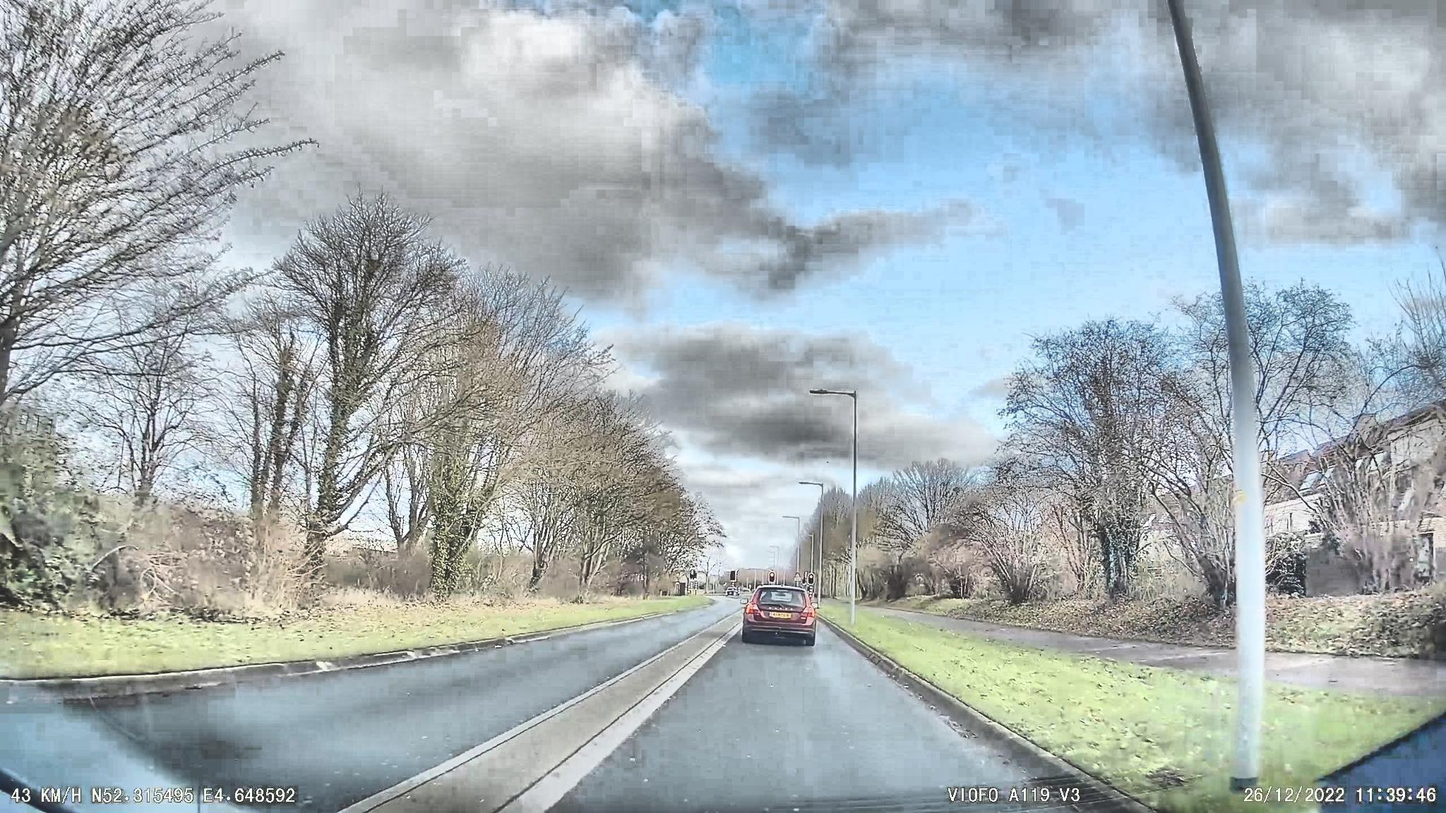Roads: (0, 605, 1152, 813)
